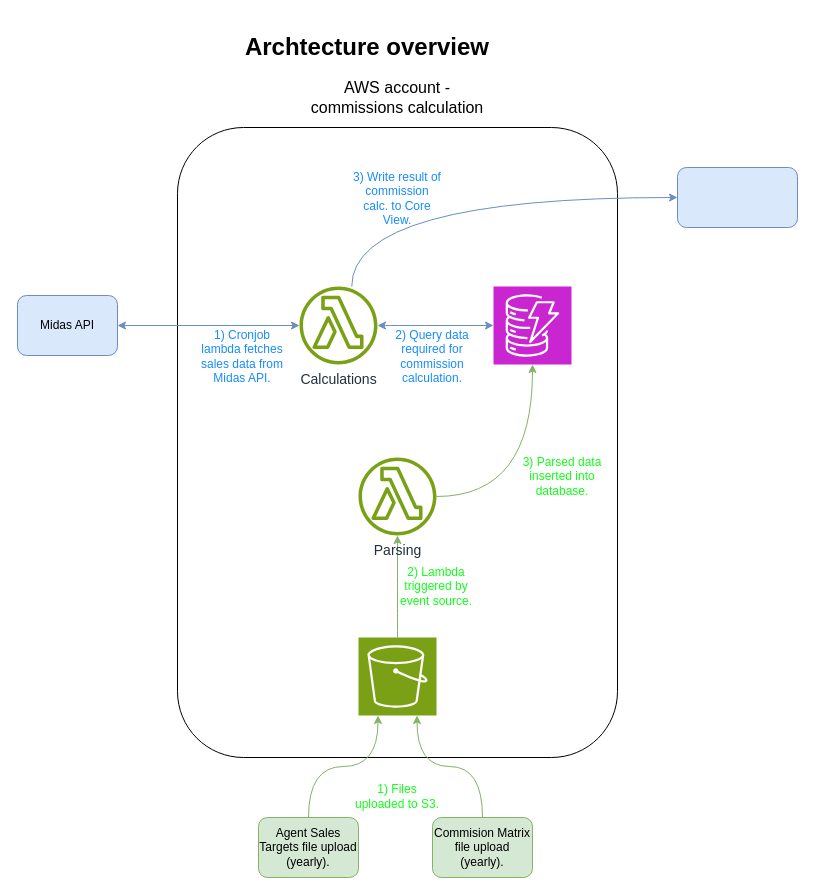
This 815x895 diagram has some shape labels left out. Here are the shapes that lost their labels. From the top down, the box of each, then its label:
(676, 166, 798, 228): Write calculation results to Core View
(492, 286, 572, 364): DynamoDB
(358, 636, 436, 716): Commission matrix & sales targets
